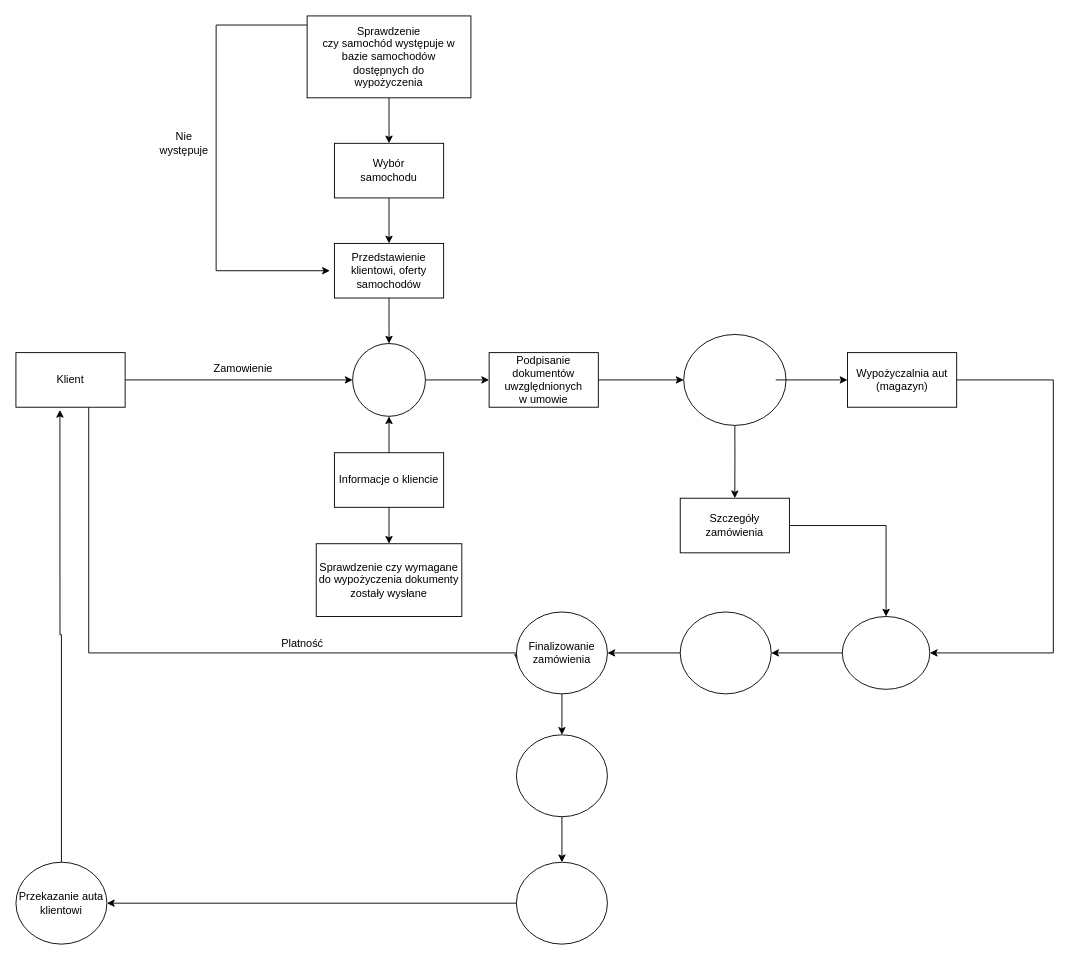
Image size: 1077x960. Some labels were removed from this diagram. Each missing label, with the box of its shape:
Potwierdzenie wpłaty przez klienta: (516, 734, 607, 817)
Proces zamowienia: (352, 343, 425, 416)
Sprowadzenie auta, na wyznaczony termin: (679, 611, 771, 694)
Weryfikacja zamówienia: (841, 616, 930, 689)
Wyslanie zamówienia do wypożyczalni: (683, 334, 786, 425)
Wystawienie faktury: (516, 861, 607, 944)
